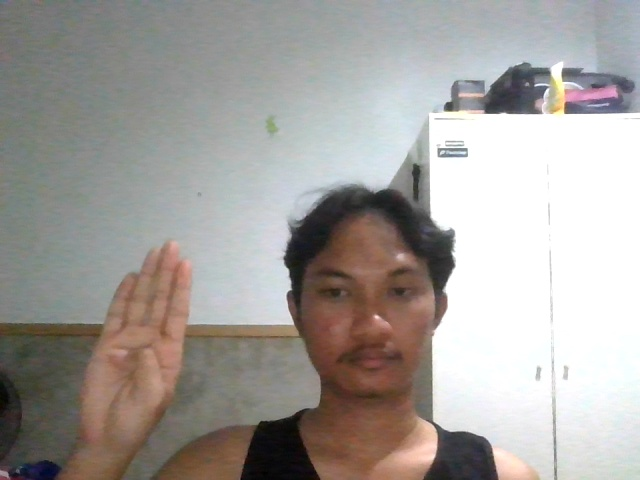b: (66, 232, 201, 447)
